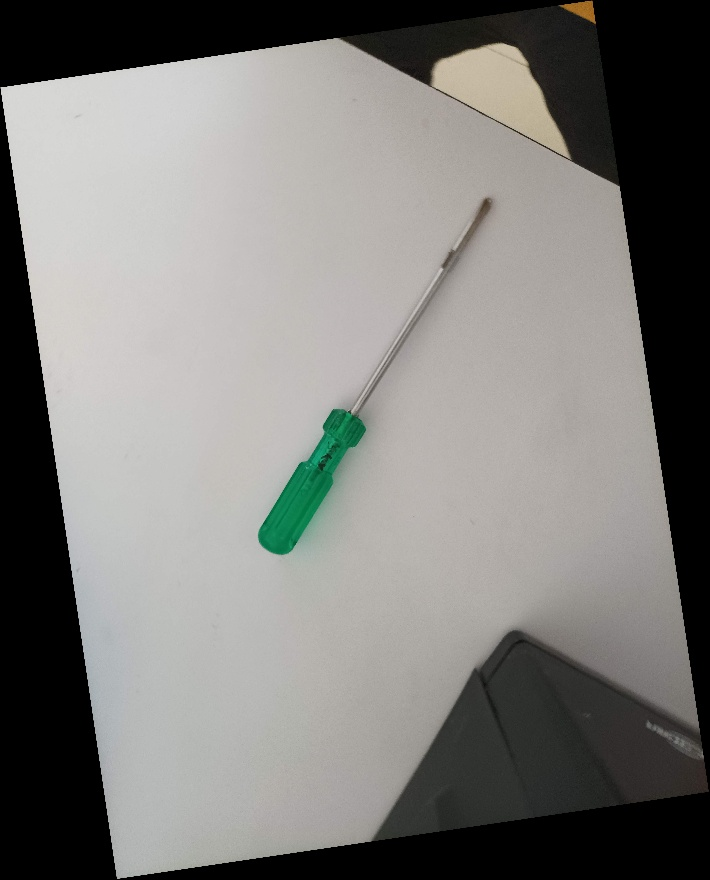screwdriver: (254, 194, 496, 555)
